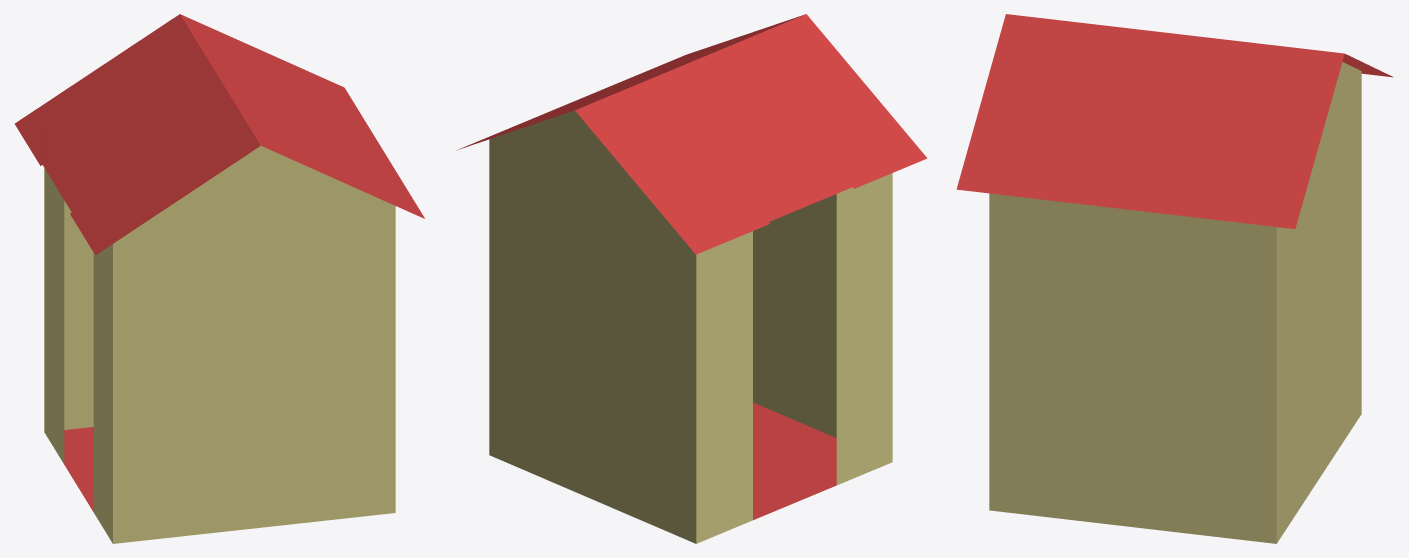
3 renders of one model, left to right at view 1: azimuth 30°, elevation 25°; view 2: azimuth 150°, elevation 25°; view 3: azimuth 270°, elevation 25°, orthographic. The views are drawn at different scales.
Parts seen in each view (by area): view 1: group_5, group_3, group_6, group_4; view 2: group_5, group_3, group_6, group_4; view 3: group_5, group_3.
Boxes of the visible parts, x1,y1,x2,y2 form: group_5: (44, 146, 395, 543); group_3: (15, 14, 424, 255); group_6: (64, 427, 93, 511); group_4: (16, 20, 252, 254); group_5: (489, 110, 892, 543); group_3: (456, 14, 926, 254); group_6: (753, 402, 836, 519); group_4: (591, 18, 925, 253); group_5: (989, 62, 1361, 543); group_3: (956, 14, 1393, 228).
Size of the model in its own units: 12.69 by 12.28 by 13.27.
